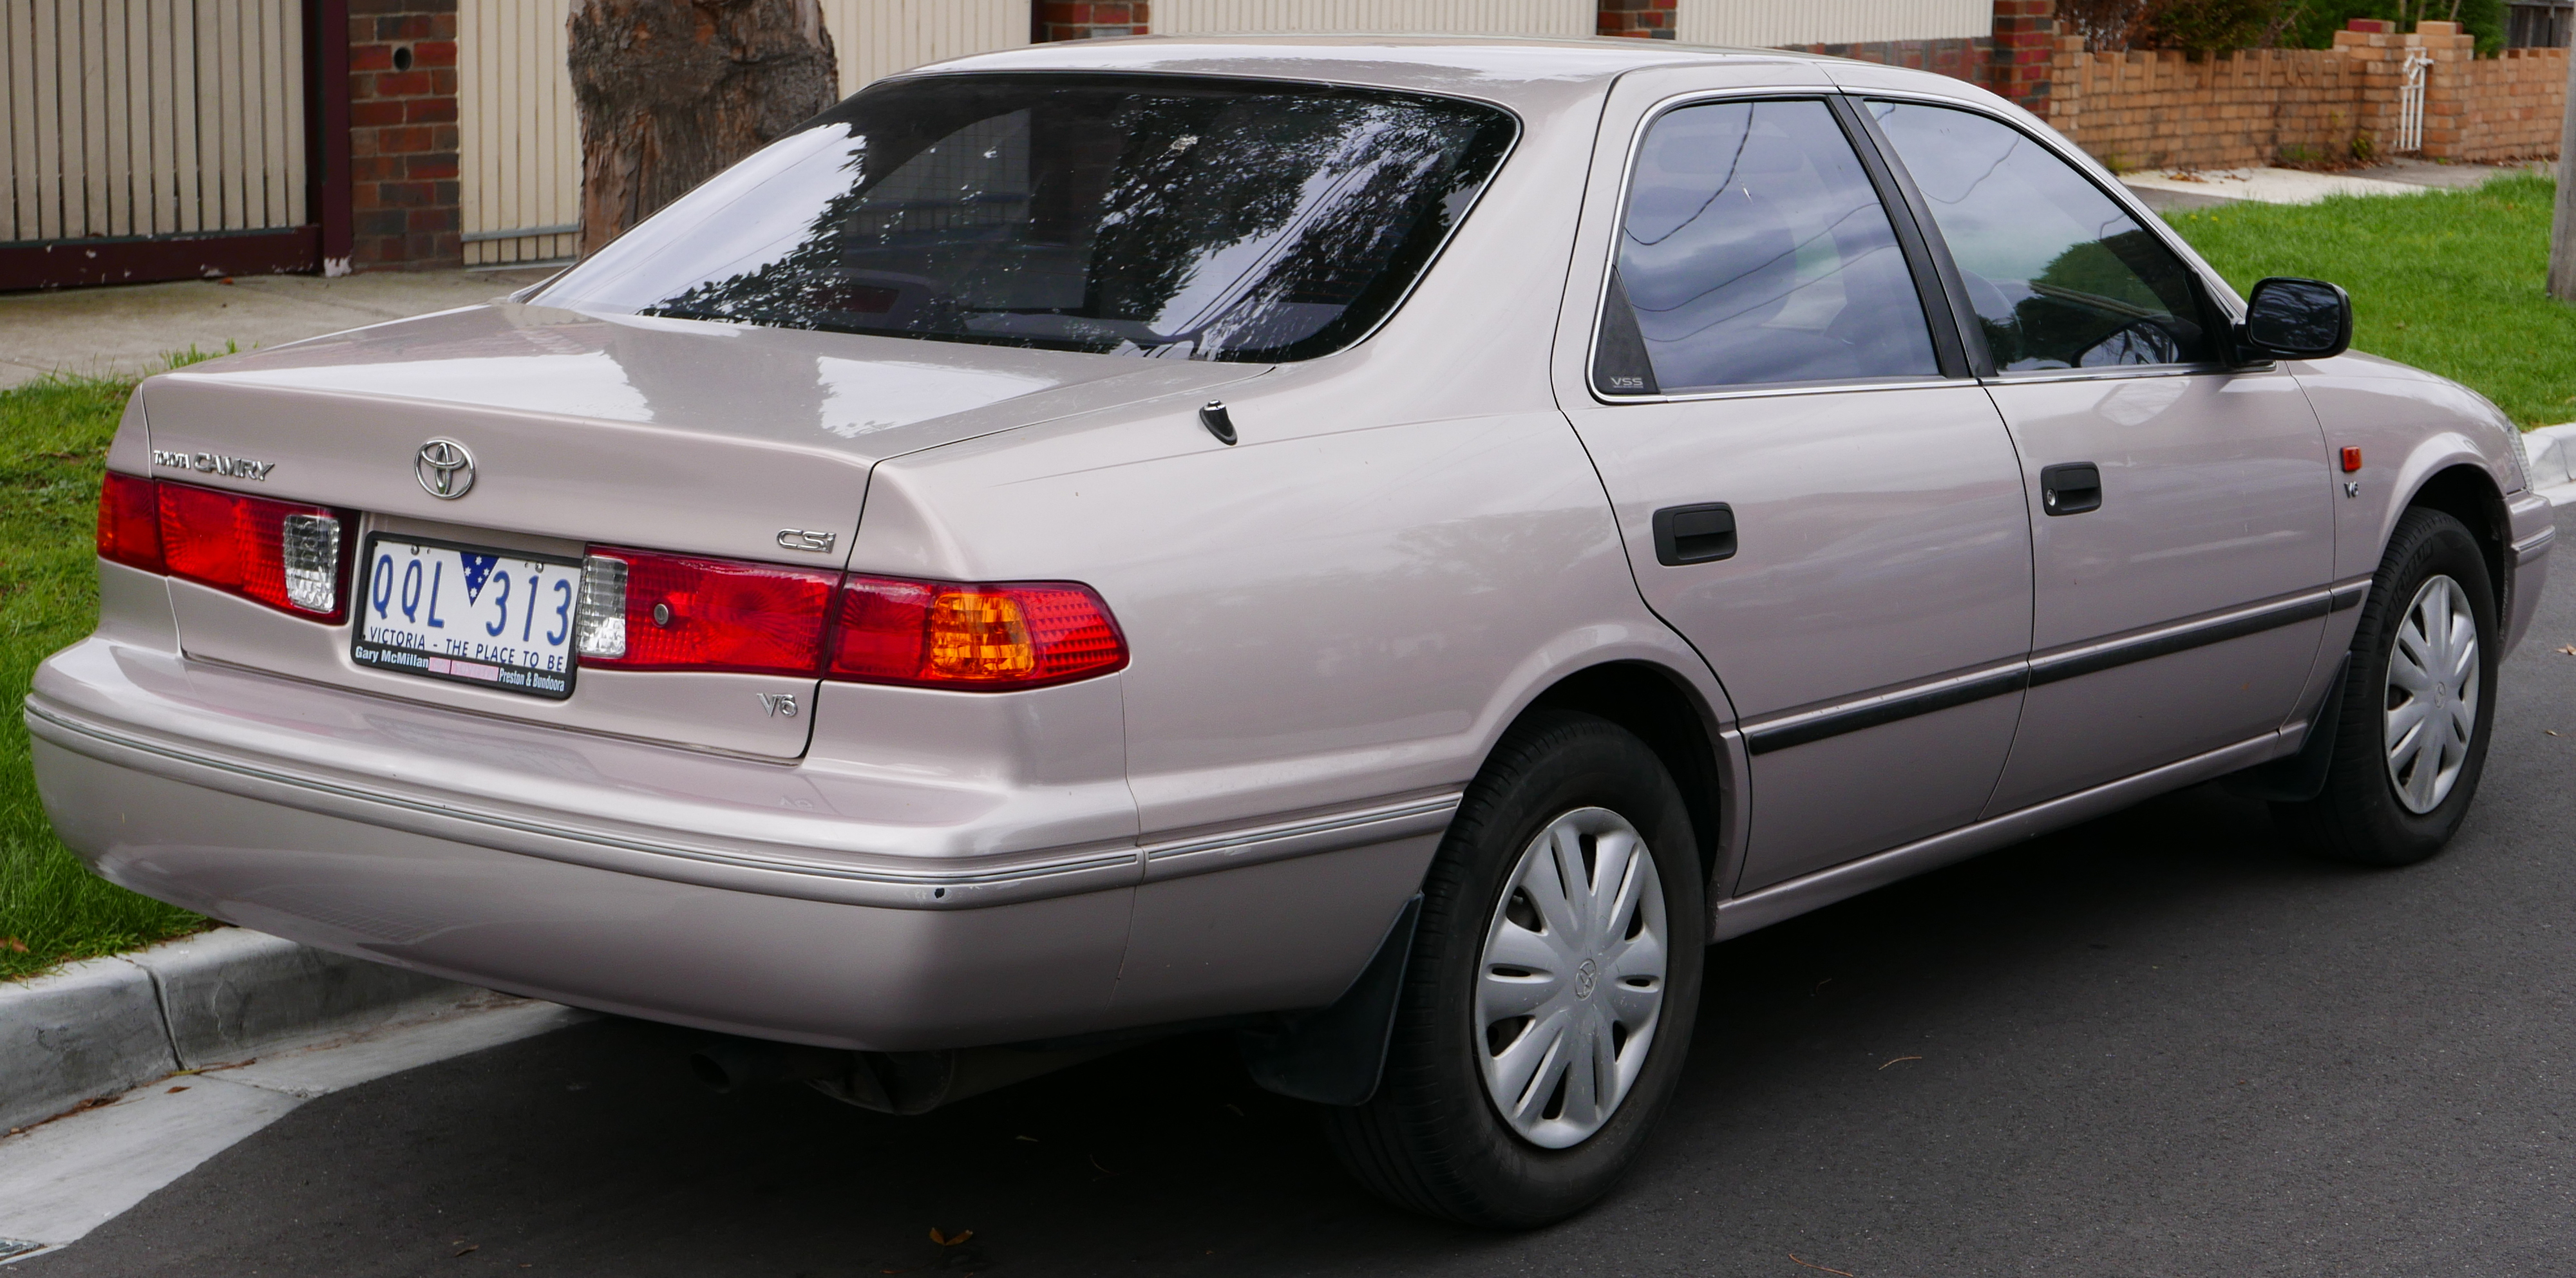car: (16, 21, 2563, 1234)
